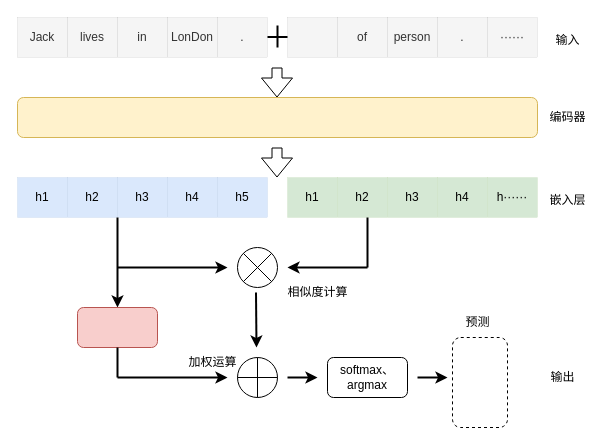
Image size: 615x445. Some labels were removed from this diagram. The shapes that lost their labels are listed below. From the top down, each one's centre as x and y in pixels, then its label:
At point 312,37: "begin".
At point 277,117: "PLMs：BERT、Roberta".
At point 117,327: "Linear Classifier".
At point 480,382: "B-PER O O B-LOC O".
